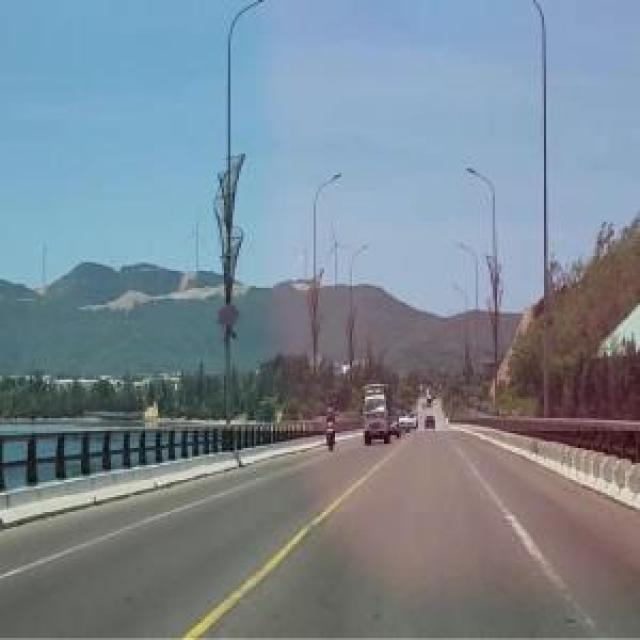clear-road: (0, 431, 640, 640)
